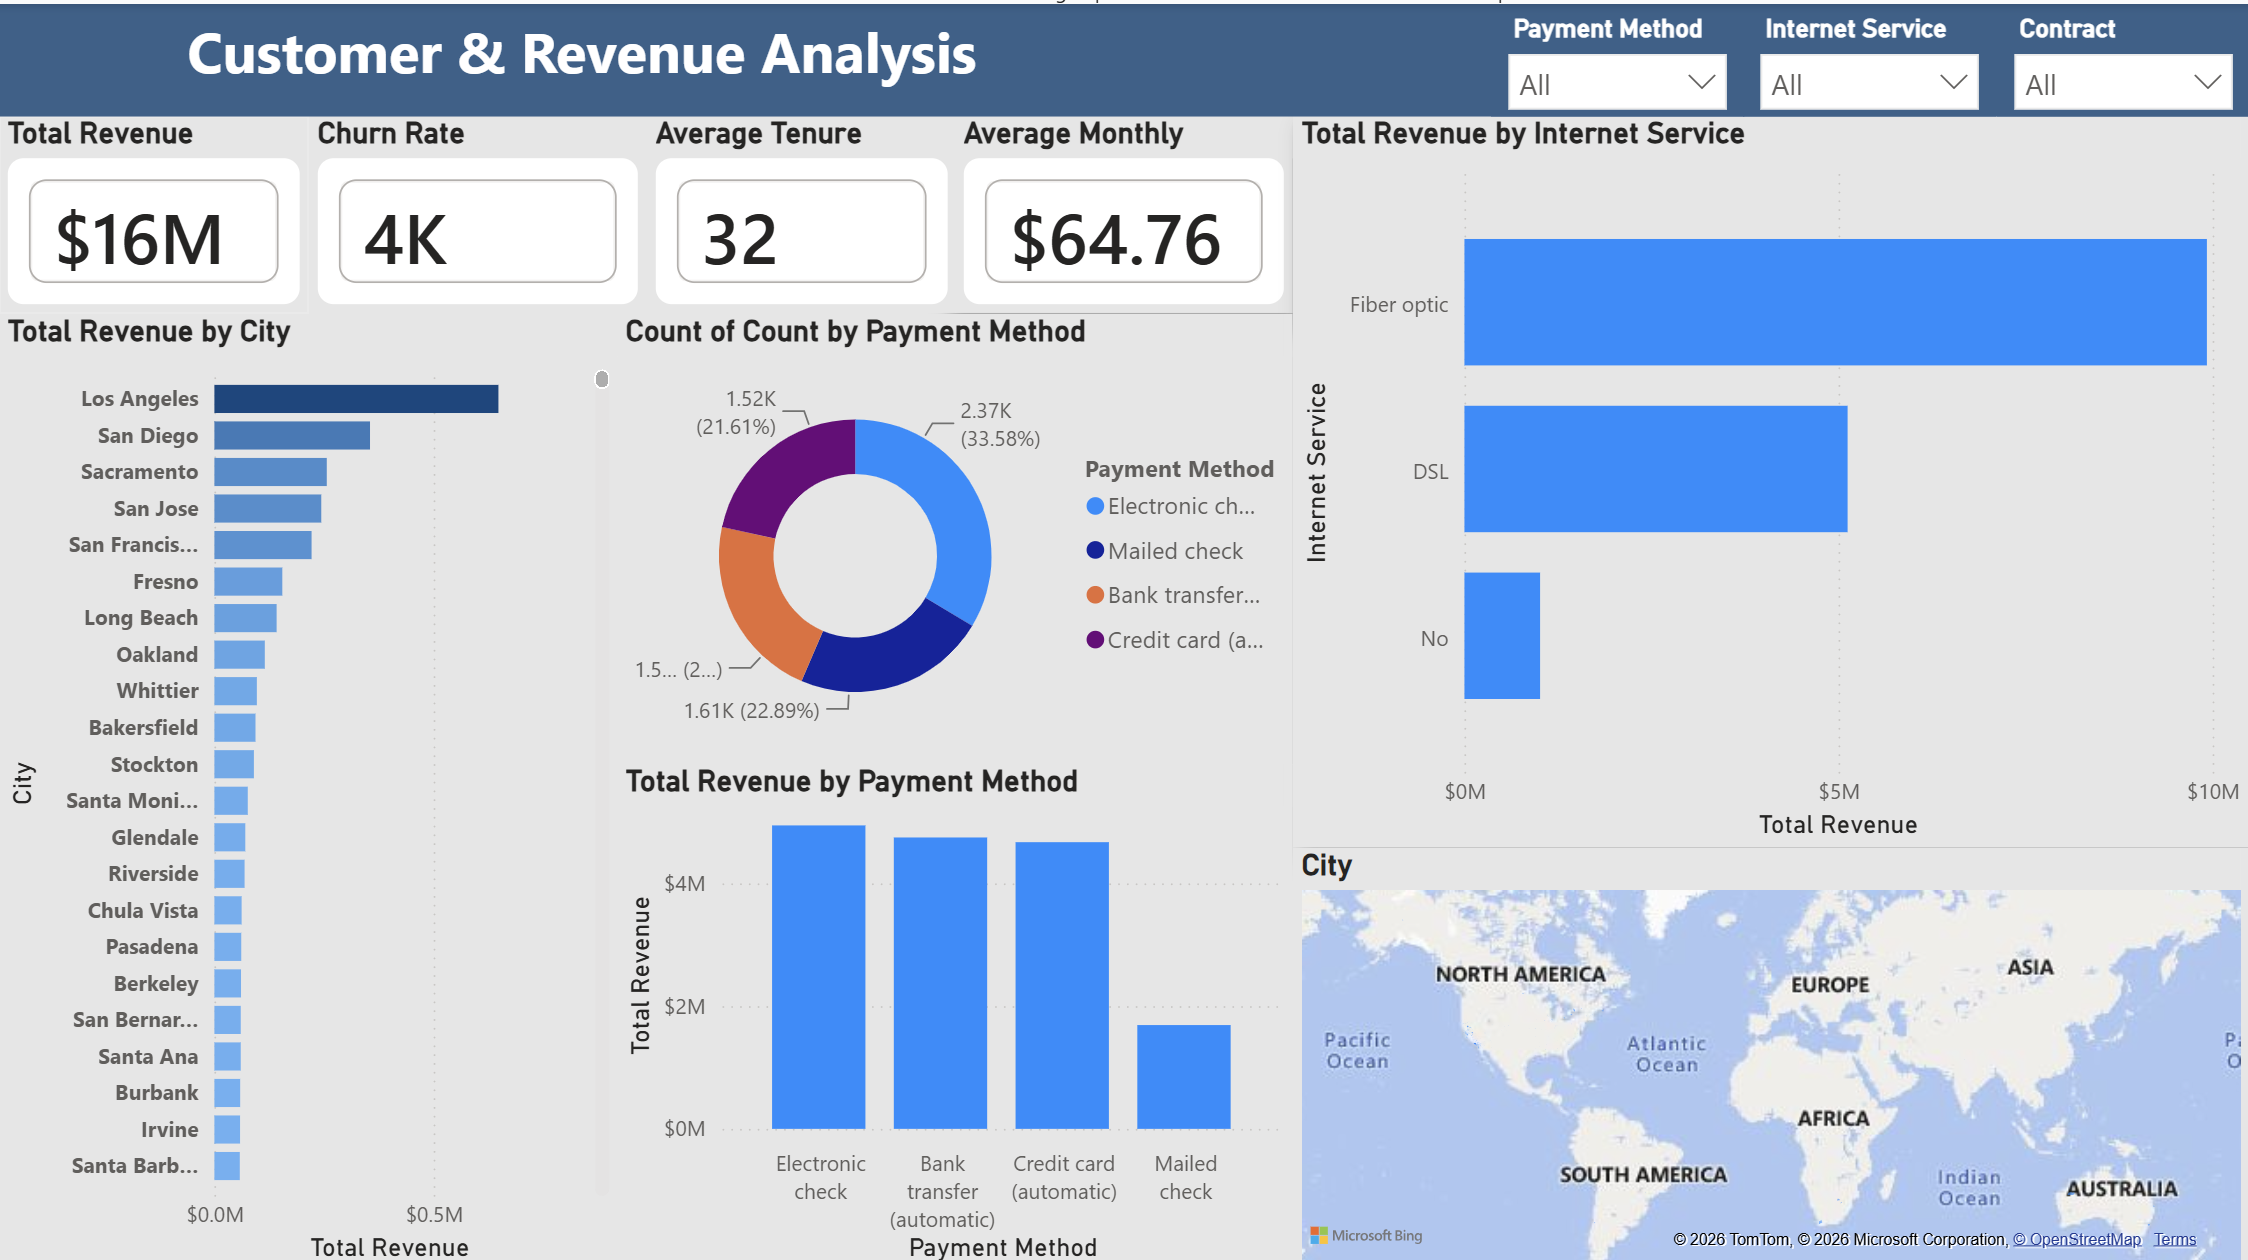

What the dashboard file says about the page in this screenshot:
{"tool":"powerbi","page":{"name":"Customer & Revenue Analysis","canvas":[1280,720],"ordinal":1},"visuals":[{"type":"cardVisual","title":"Churn Rate","fields":{"Data":["Measures_Table.Average CLTV"]},"box":[176,64,192,112],"z":0},{"type":"cardVisual","title":"Total Revenue","fields":{"Data":["Measures_Table.Total Revenue"]},"box":[0,64,176,112],"z":1000},{"type":"cardVisual","title":"Average Monthly","fields":{"Data":["Measures_Table.Average Monthly Charges"]},"box":[544,64,192,112],"z":2000},{"type":"cardVisual","title":"Average Tenure","fields":{"Data":["Measures_Table.Average Tenure"]},"box":[368,64,176,112],"z":3000},{"type":"clusteredBarChart","fields":{"Category":["telco_customer_clean.Internet Service"],"Y":["Measures_Table.Total Revenue"]},"box":[736,64,544,416],"z":4000},{"type":"donutChart","fields":{"Category":["telco_customer_clean.Payment Method"],"Y":["CountNonNull(telco_customer_clean.Count)"]},"box":[352,176,384,256],"z":5000},{"type":"clusteredColumnChart","fields":{"Category":["telco_customer_clean.Payment Method"],"Y":["Measures_Table.Total Revenue"]},"box":[352,432,384,288],"z":6000},{"type":"clusteredBarChart","fields":{"Y":["Measures_Table.Total Revenue"],"Category":["telco_customer_clean.City"]},"box":[0,176,352,544],"z":7000},{"type":"textbox","box":[0,0,1280,64],"z":8000},{"type":"slicer","fields":{"Values":["telco_customer_clean.Payment Method"]},"box":[848,0,144,64],"z":9000},{"type":"slicer","fields":{"Values":["telco_customer_clean.Internet Service"]},"box":[992,0,144,64],"z":10000},{"type":"slicer","fields":{"Values":["telco_customer_clean.Contract"]},"box":[1136,0,144,64],"z":11000},{"type":"filledMap","fields":{"Category":["telco_customer_clean.City"]},"box":[736,480,544,240],"z":12000}]}

Visuals, with their boxes in screenshot pixels (x1, y1, x2, y2), scaled from the page's 1280x720 canvas onto the 2248x1260 screenshot:
"Churn Rate" cardVisual: [309, 112, 646, 308]
"Total Revenue" cardVisual: [0, 112, 309, 308]
"Average Monthly" cardVisual: [955, 112, 1293, 308]
"Average Tenure" cardVisual: [646, 112, 955, 308]
clusteredBarChart - telco_customer_clean.Internet Service x Measures_Table.Total Revenue: [1293, 112, 2247, 840]
donutChart - telco_customer_clean.Payment Method x CountNonNull(telco_customer_clean.Count): [618, 308, 1293, 756]
clusteredColumnChart - telco_customer_clean.Payment Method x Measures_Table.Total Revenue: [618, 756, 1293, 1259]
clusteredBarChart - Measures_Table.Total Revenue x telco_customer_clean.City: [0, 308, 618, 1259]
textbox: [0, 0, 2247, 112]
slicer - telco_customer_clean.Payment Method: [1489, 0, 1742, 112]
slicer - telco_customer_clean.Internet Service: [1742, 0, 1995, 112]
slicer - telco_customer_clean.Contract: [1995, 0, 2247, 112]
filledMap - telco_customer_clean.City: [1293, 840, 2247, 1259]
